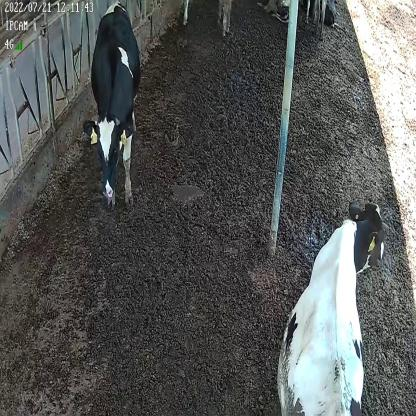cow: (276, 192, 386, 416), (81, 2, 143, 214)
